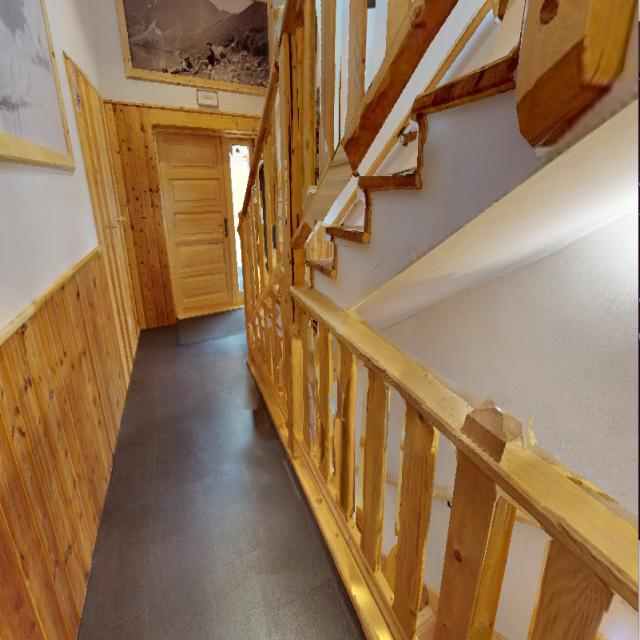door: (144, 128, 236, 324)
stairs: (229, 0, 640, 640)
